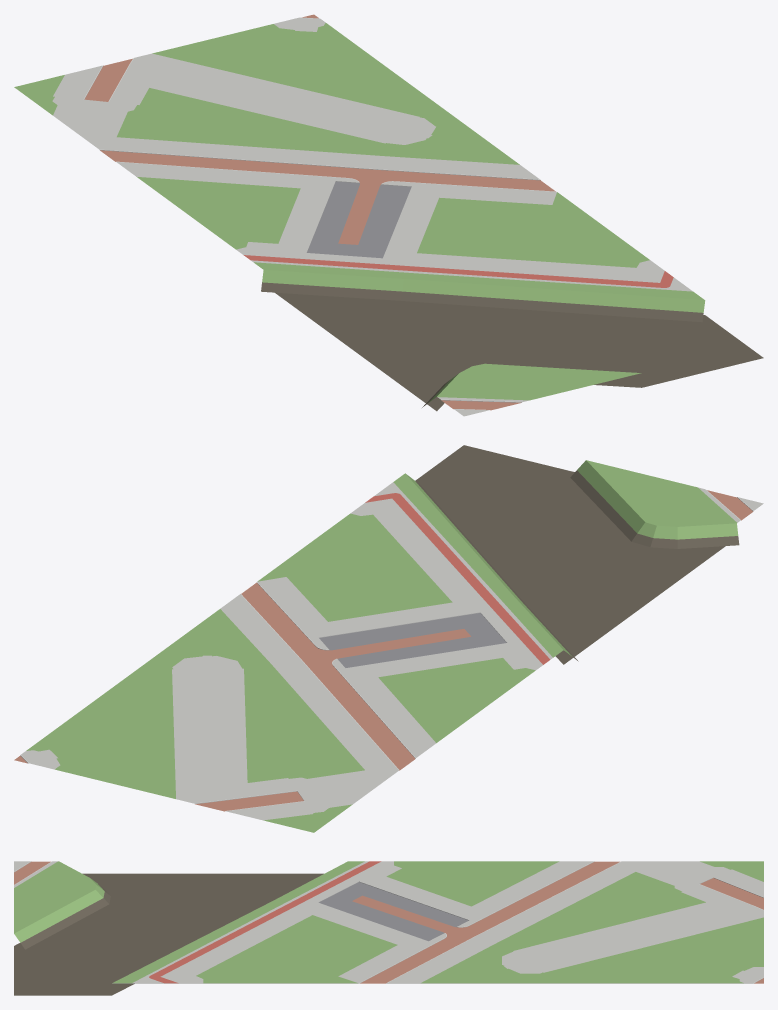
Rendered from ground_13_12.glb.
The picture shows the model from 3 angles, top to bottom: view 1: azimuth 30°, elevation 25°; view 2: azimuth 150°, elevation 25°; view 3: azimuth 270°, elevation 25°; orthographic projection. The views are drawn at different scales.
Visible parts, largest first — view 1: ground_13_12; view 2: ground_13_12; view 3: ground_13_12.
Part boxes in pixels (x1,y1,x2,y2): ground_13_12: [14, 14, 763, 416]; ground_13_12: [14, 445, 763, 832]; ground_13_12: [14, 861, 763, 995].
Bounding box in the file's own units: 79.38 × 3.62 × 200.
